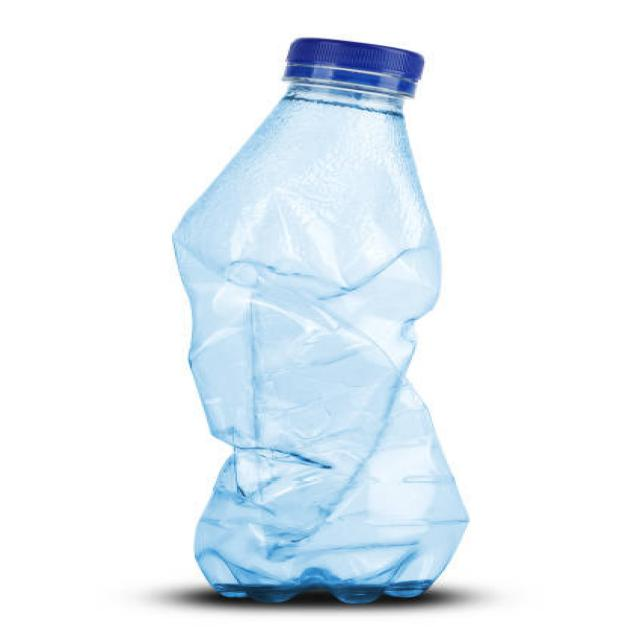plastic: (143, 25, 524, 617)
